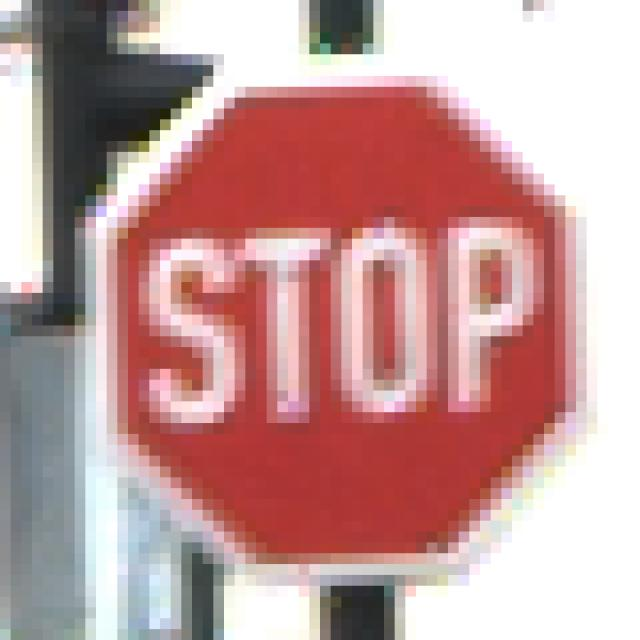STOP: (65, 66, 577, 587)
